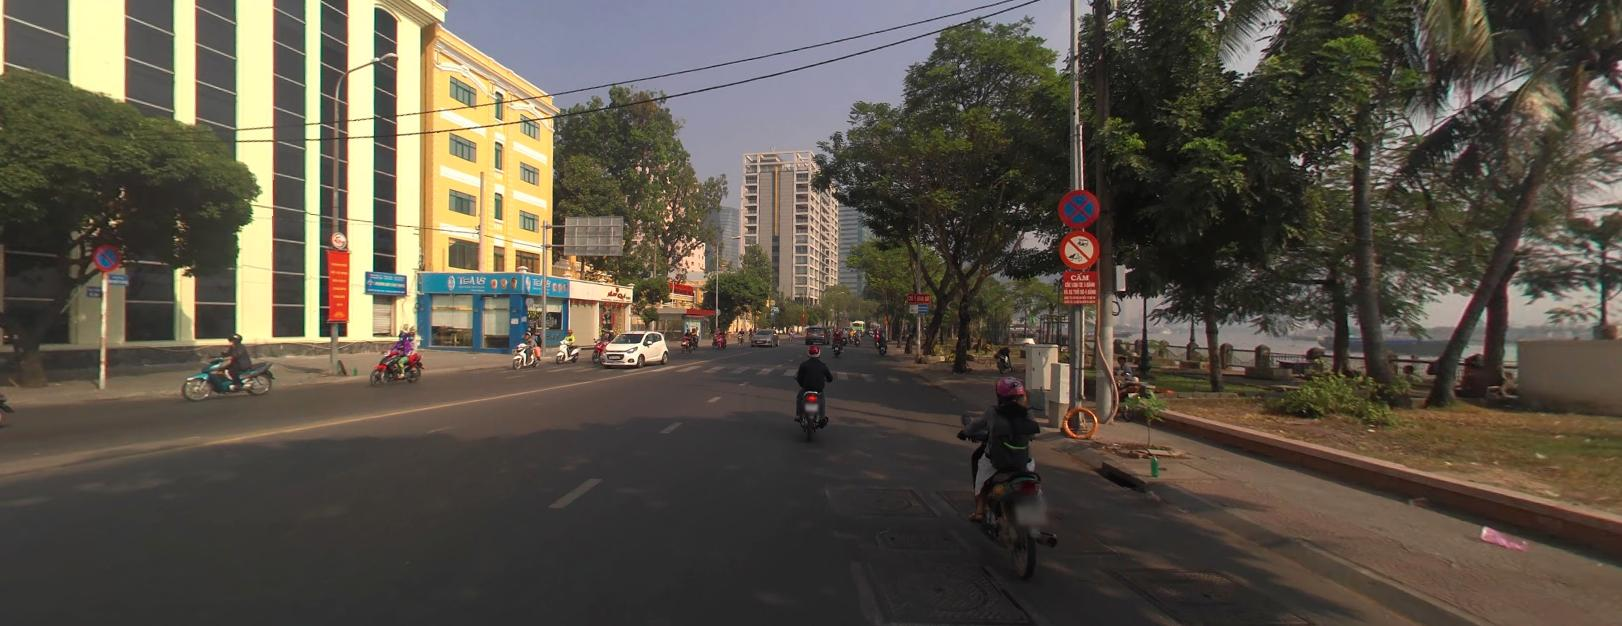Cam con lai: (1060, 228, 1098, 267)
Cam dung va do: (1058, 188, 1098, 226), (92, 243, 120, 270)
Nguy hiem: (883, 319, 887, 322)
